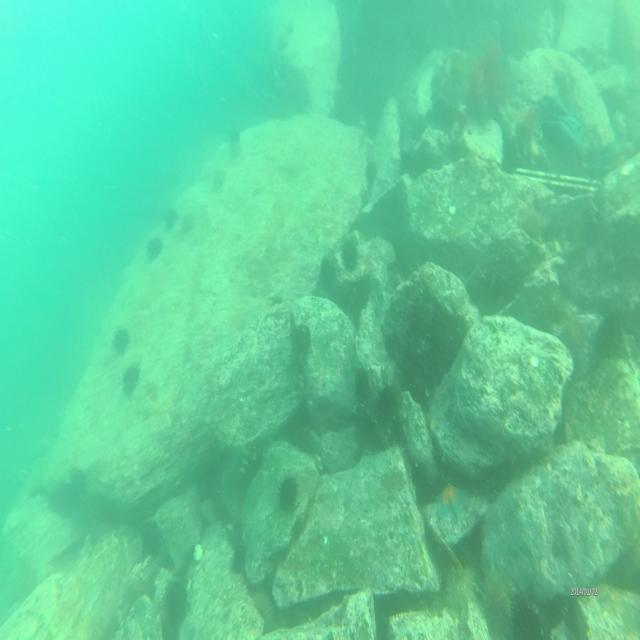echinus: (479, 574, 517, 636), (445, 559, 477, 618), (161, 577, 191, 630), (252, 585, 276, 635), (376, 378, 399, 430), (280, 467, 300, 516), (317, 254, 339, 294), (292, 322, 312, 361), (340, 235, 360, 273), (120, 364, 140, 402), (180, 206, 196, 242), (112, 328, 130, 356), (212, 162, 228, 192), (146, 234, 163, 262), (164, 203, 179, 234), (364, 158, 378, 187), (226, 125, 241, 152)
starfish: (437, 484, 463, 521)
